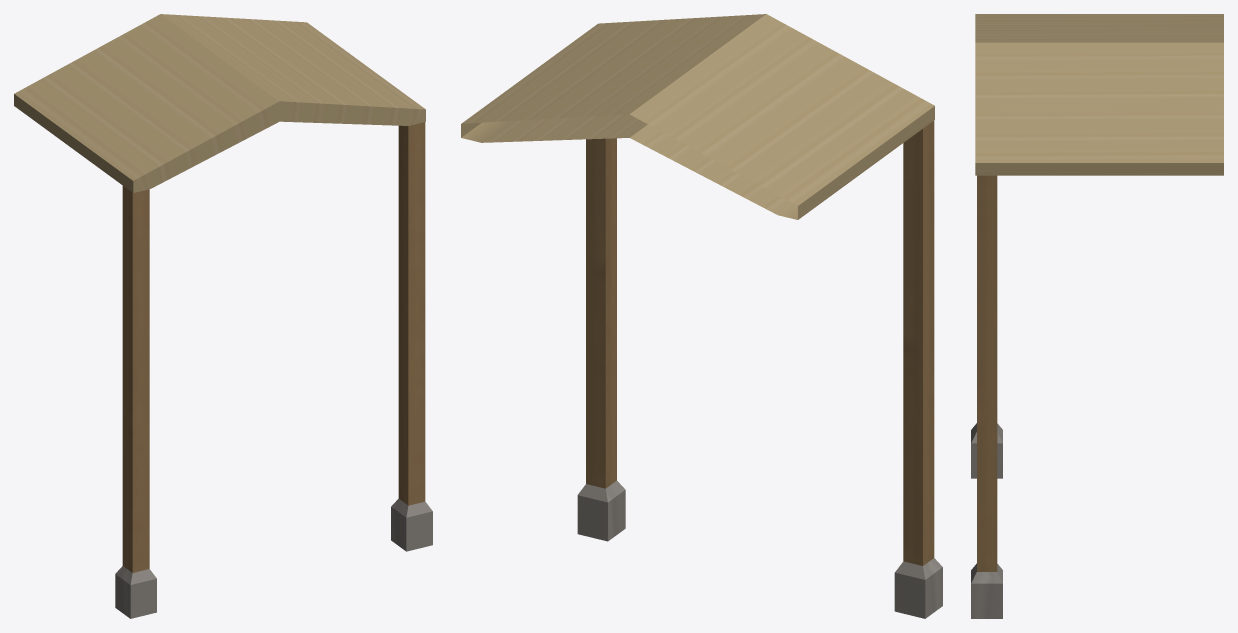
The model's file is ModularHouses_FrontDetail.fbx.
3 views of the same model, side by side, from view 1: azimuth 30°, elevation 25°; view 2: azimuth 150°, elevation 25°; view 3: azimuth 270°, elevation 25° (orthographic). The views are drawn at different scales.
Parts seen in each view (by area): view 1: FrontDetail; view 2: FrontDetail; view 3: FrontDetail.
Boxes of the visible parts, x1,y1,x2,y2 form: FrontDetail: (14,14,432,618); FrontDetail: (461,14,942,618); FrontDetail: (971,14,1223,618).
Size of the model in its own units: 10.73 by 16.26 by 7.45.
